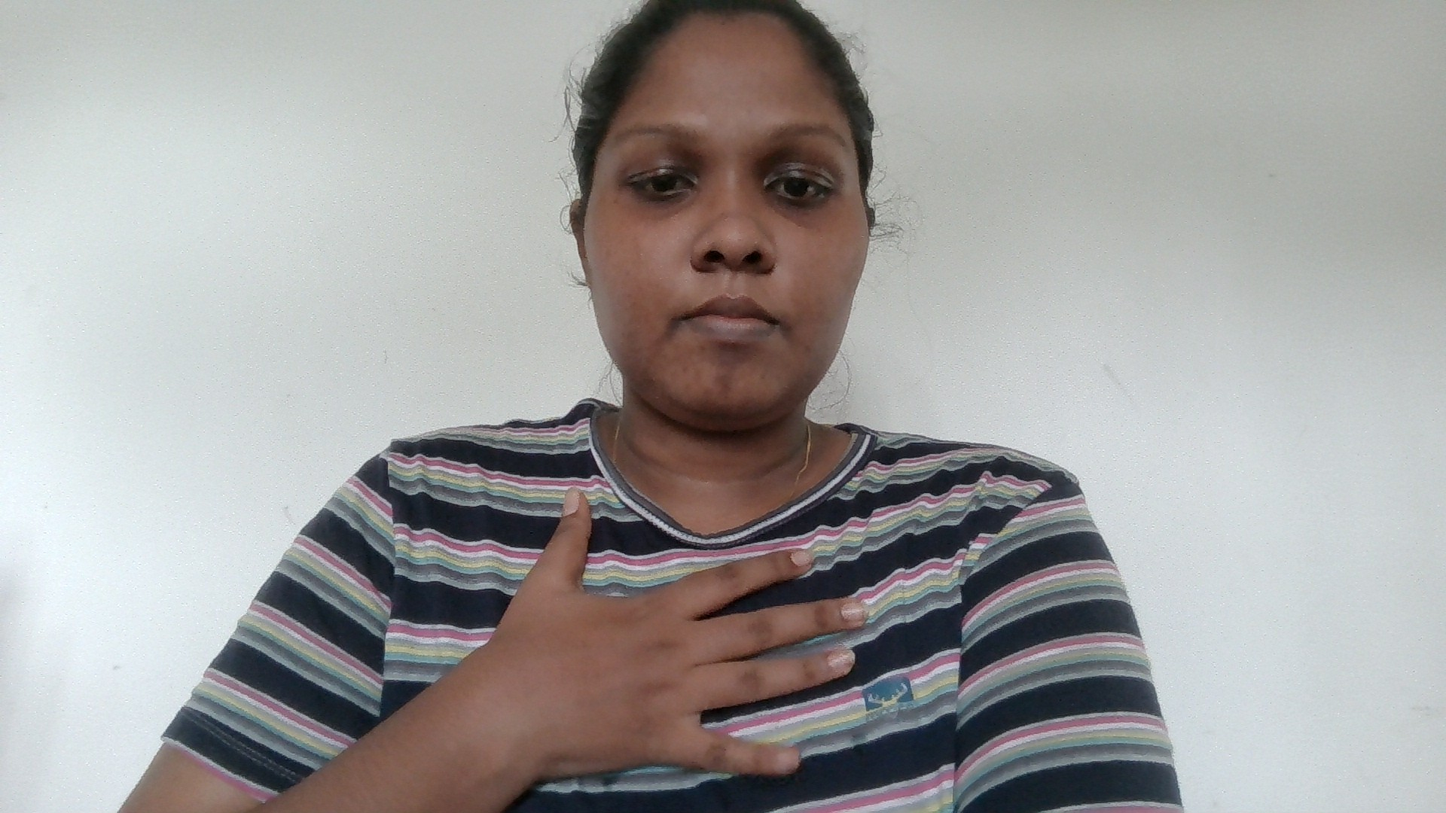Please: (499, 481, 887, 777)
